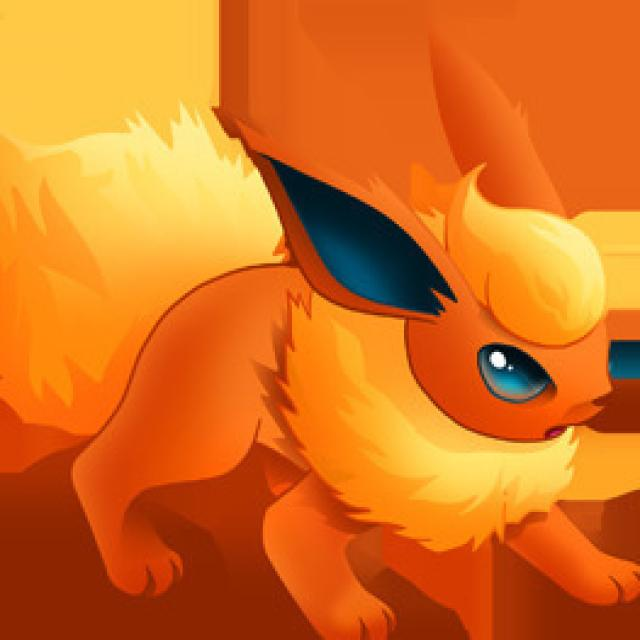Flareon: (73, 172, 640, 634)
